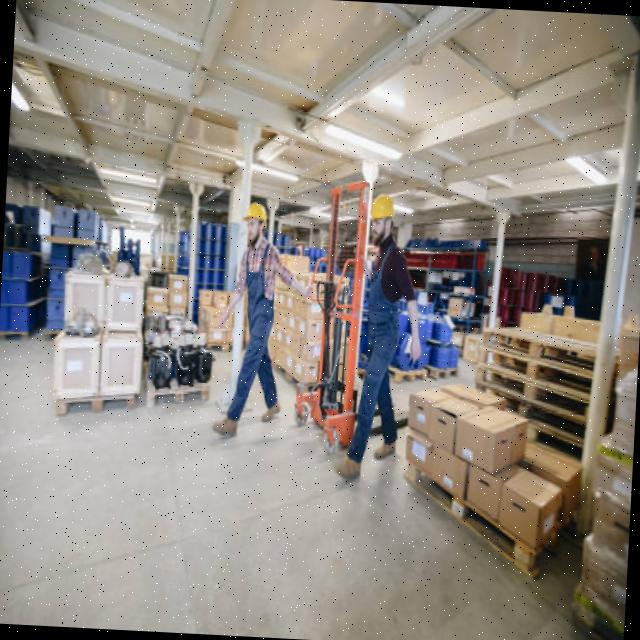Wooden-Pallets: (399, 447, 536, 588), (50, 387, 140, 428), (146, 384, 216, 417)
